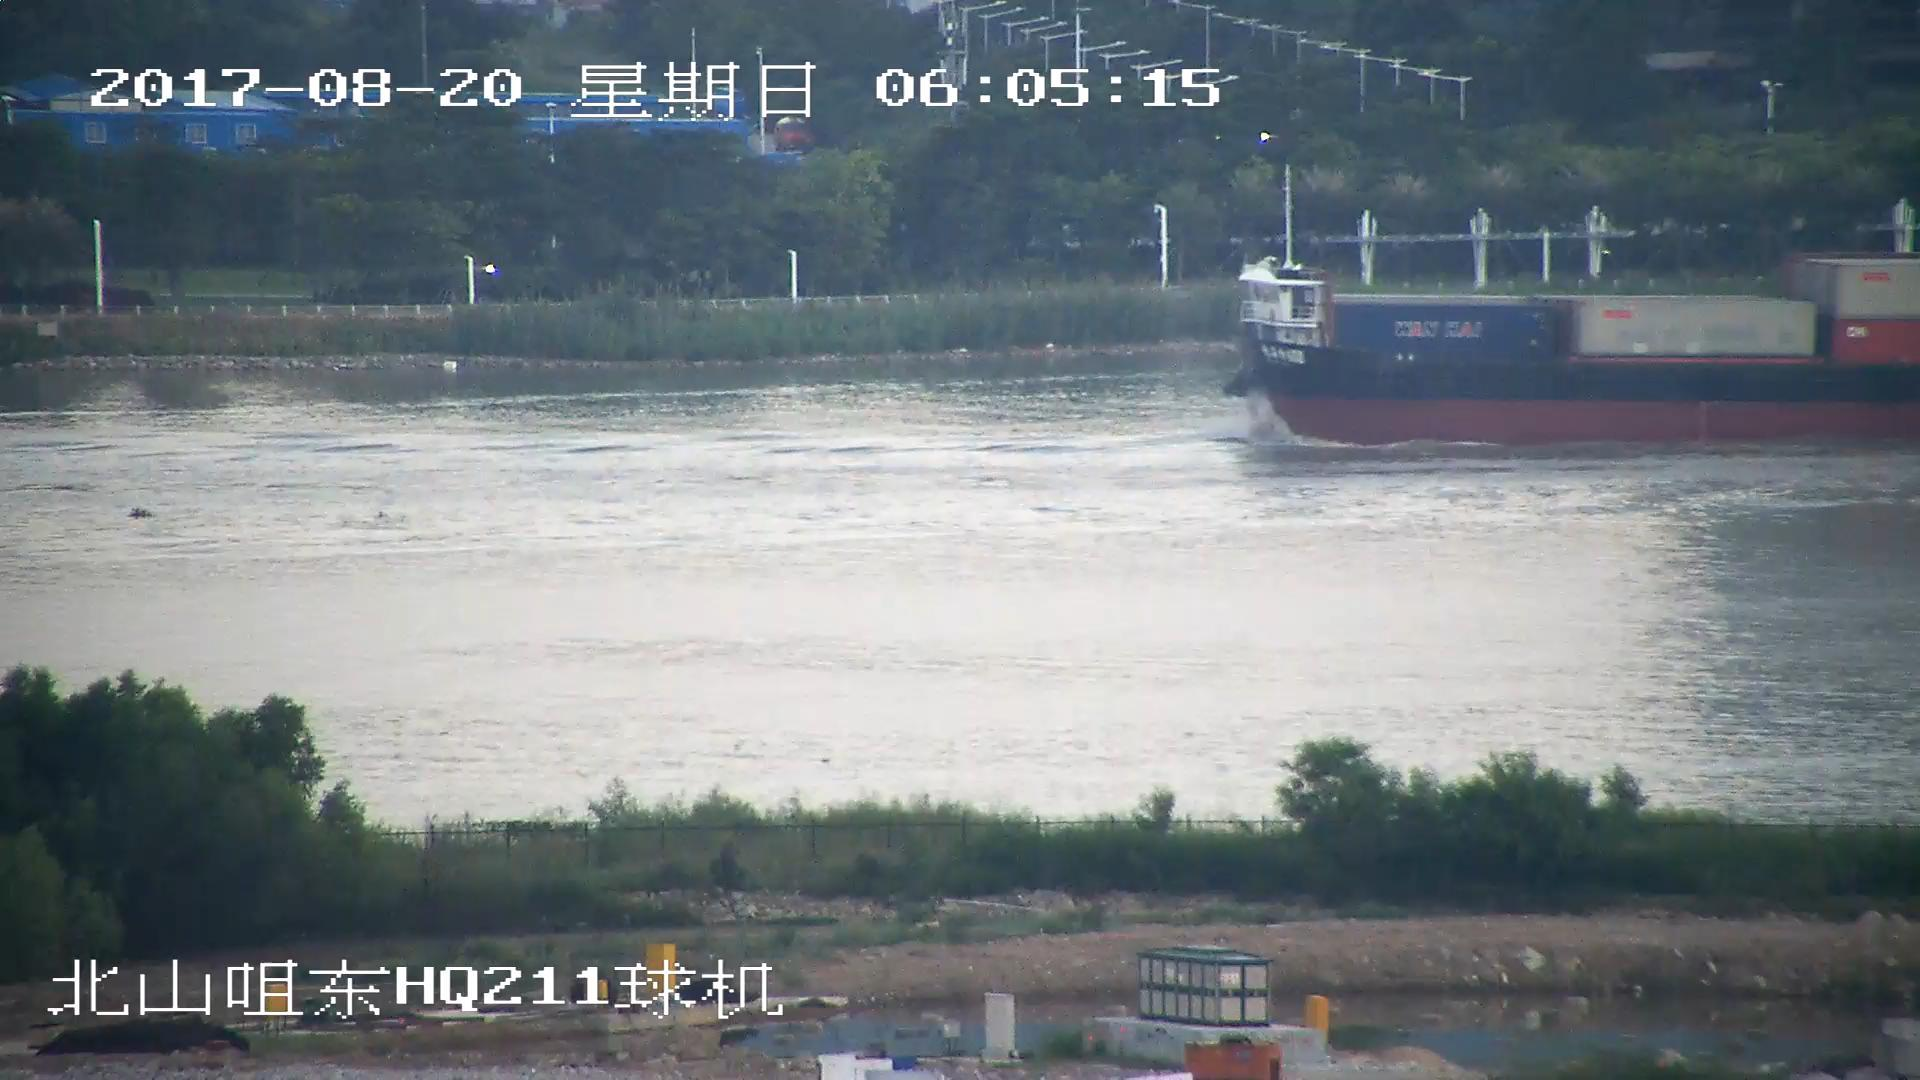Ship: (1226, 256, 1920, 444)
